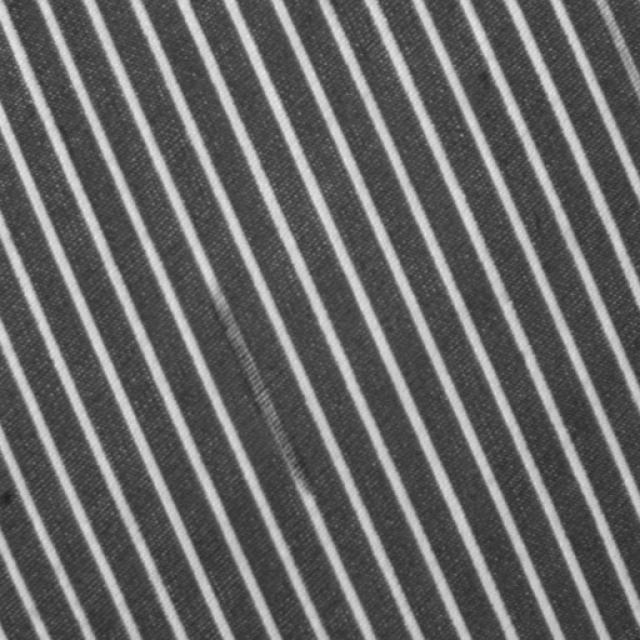Stain-Defect: (210, 288, 315, 502)
